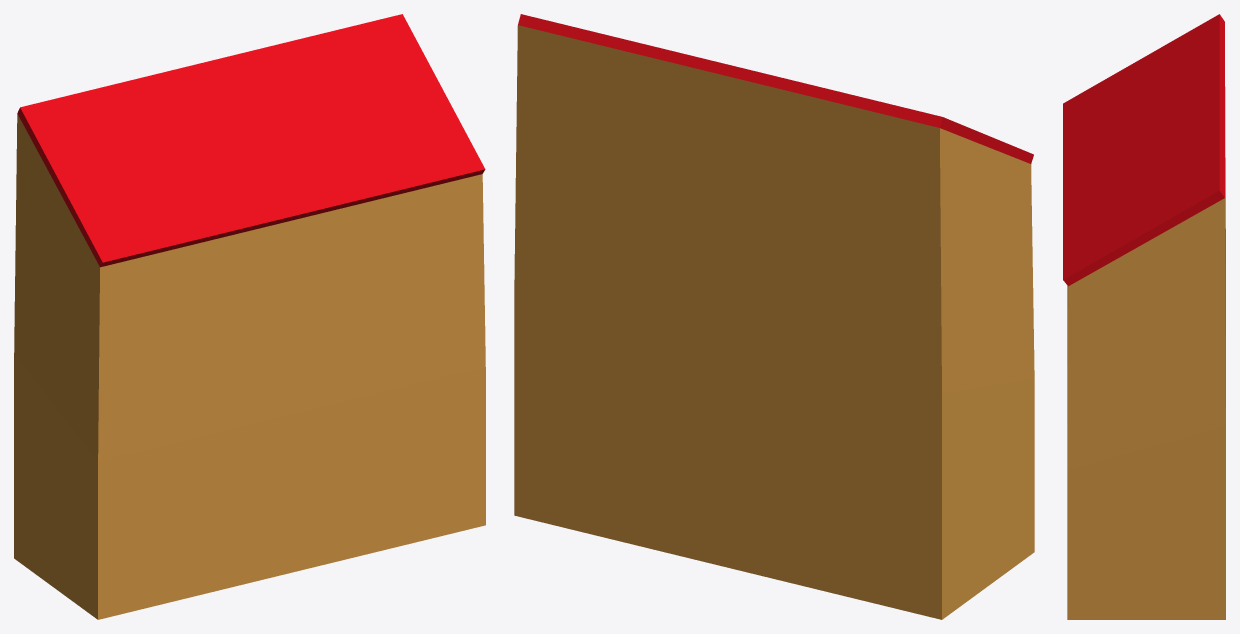
Rendered from SM_casa3l.fbx.
3 renders of one model, left to right at view 1: azimuth 30°, elevation 25°; view 2: azimuth 150°, elevation 25°; view 3: azimuth 270°, elevation 25°, orthographic. The views are drawn at different scales.
Visible parts, largest first — view 1: SM_casa4; view 2: SM_casa4; view 3: SM_casa4.
Part boxes in pixels (x1=…): SM_casa4: x1=14, y1=14, x2=485, y2=619; SM_casa4: x1=514, y1=14, x2=1034, y2=619; SM_casa4: x1=1063, y1=14, x2=1225, y2=619.
Size of the model in its own units: 1469 by 1640 by 565.
